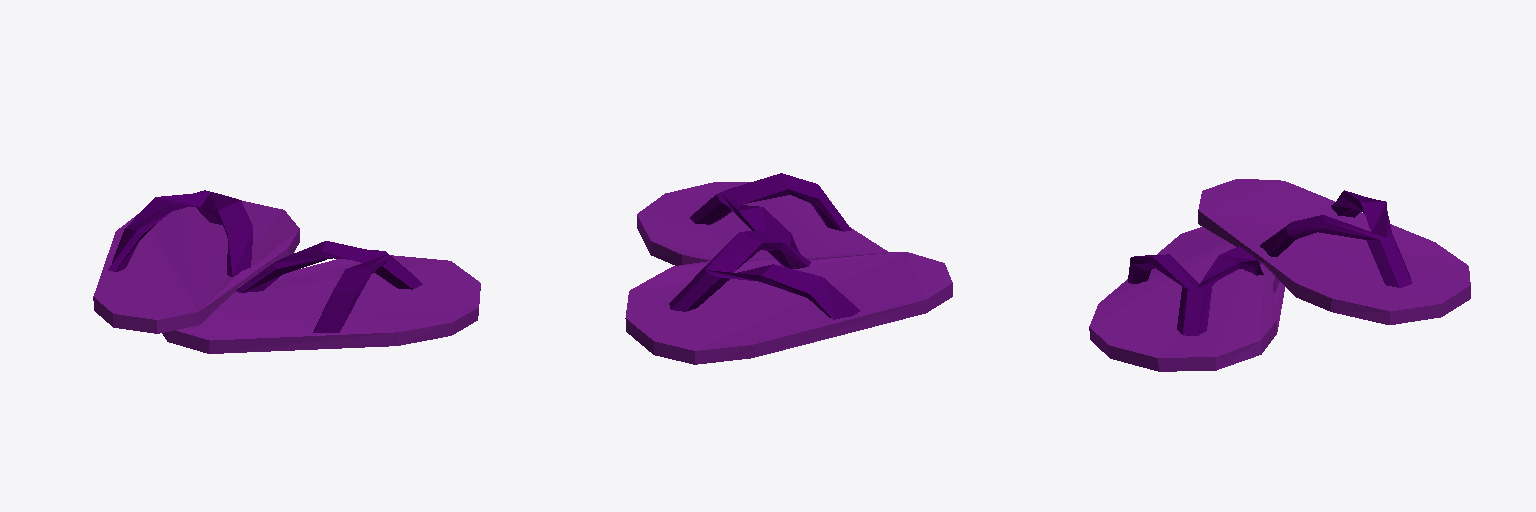
3 views of the same model, side by side, from view 1: azimuth 30°, elevation 25°; view 2: azimuth 150°, elevation 25°; view 3: azimuth 270°, elevation 25° (orthographic).
Visible parts, largest first — view 1: group[number redacted], group[number redacted]; view 2: group[number redacted], group[number redacted]; view 3: group[number redacted], group[number redacted].
Part boxes in pixels (x1,y1,x2,y2): group[number redacted]: (162, 241, 480, 353); group[number redacted]: (93, 190, 299, 333); group[number redacted]: (625, 231, 952, 364); group[number redacted]: (637, 173, 887, 265); group[number redacted]: (1198, 179, 1470, 324); group[number redacted]: (1089, 227, 1284, 371).
Bounding box in the file's own units: 0.3447 × 0.0776 × 0.3477.